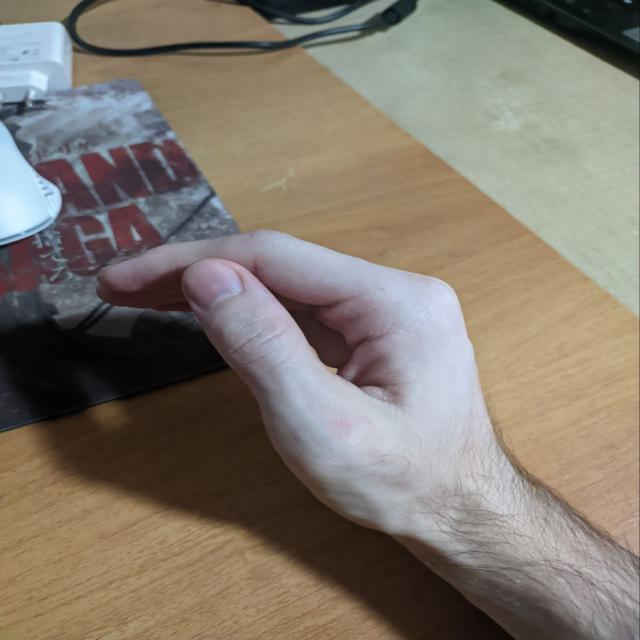f: (98, 217, 543, 555)
